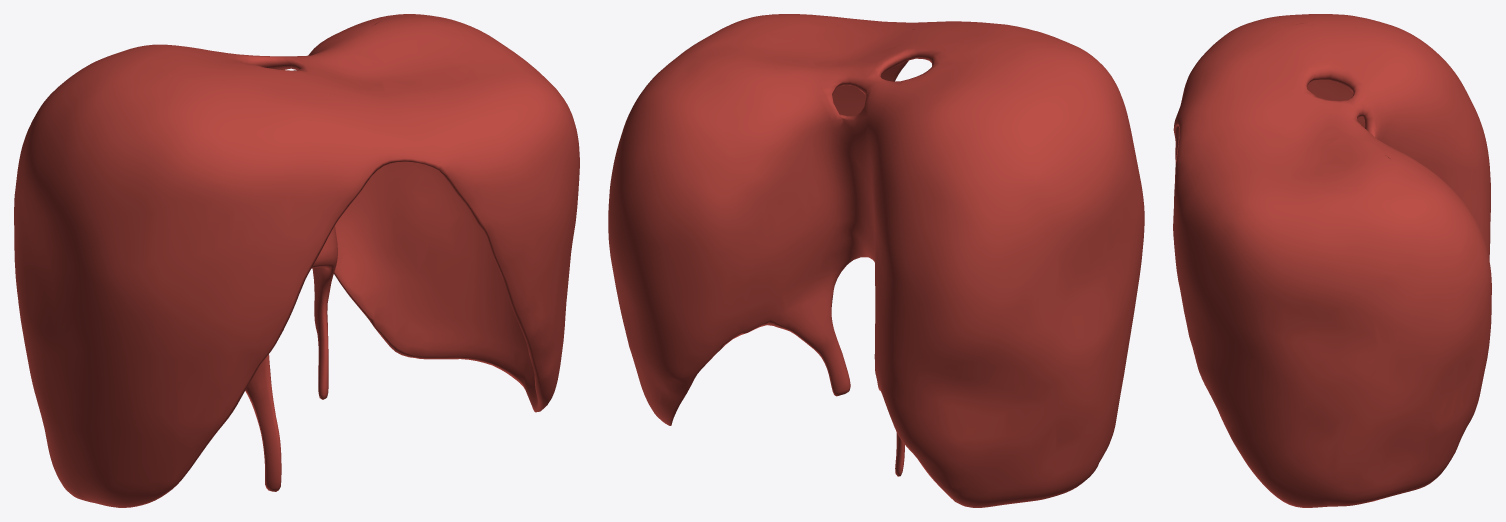
File: musculos-diaphragm.glb
3 views of the same model, side by side, from view 1: azimuth 30°, elevation 25°; view 2: azimuth 150°, elevation 25°; view 3: azimuth 270°, elevation 25° (orthographic). The views are drawn at different scales.
Visible parts, largest first — view 1: Diaphragm; view 2: Diaphragm; view 3: Diaphragm.
Boxes of the visible parts, x1,y1,x2,y2 form: Diaphragm: (14, 14, 579, 507); Diaphragm: (608, 14, 1144, 507); Diaphragm: (1173, 14, 1491, 507).
Bounding box in the file's own units: 0.2508 × 0.2199 × 0.1679.
